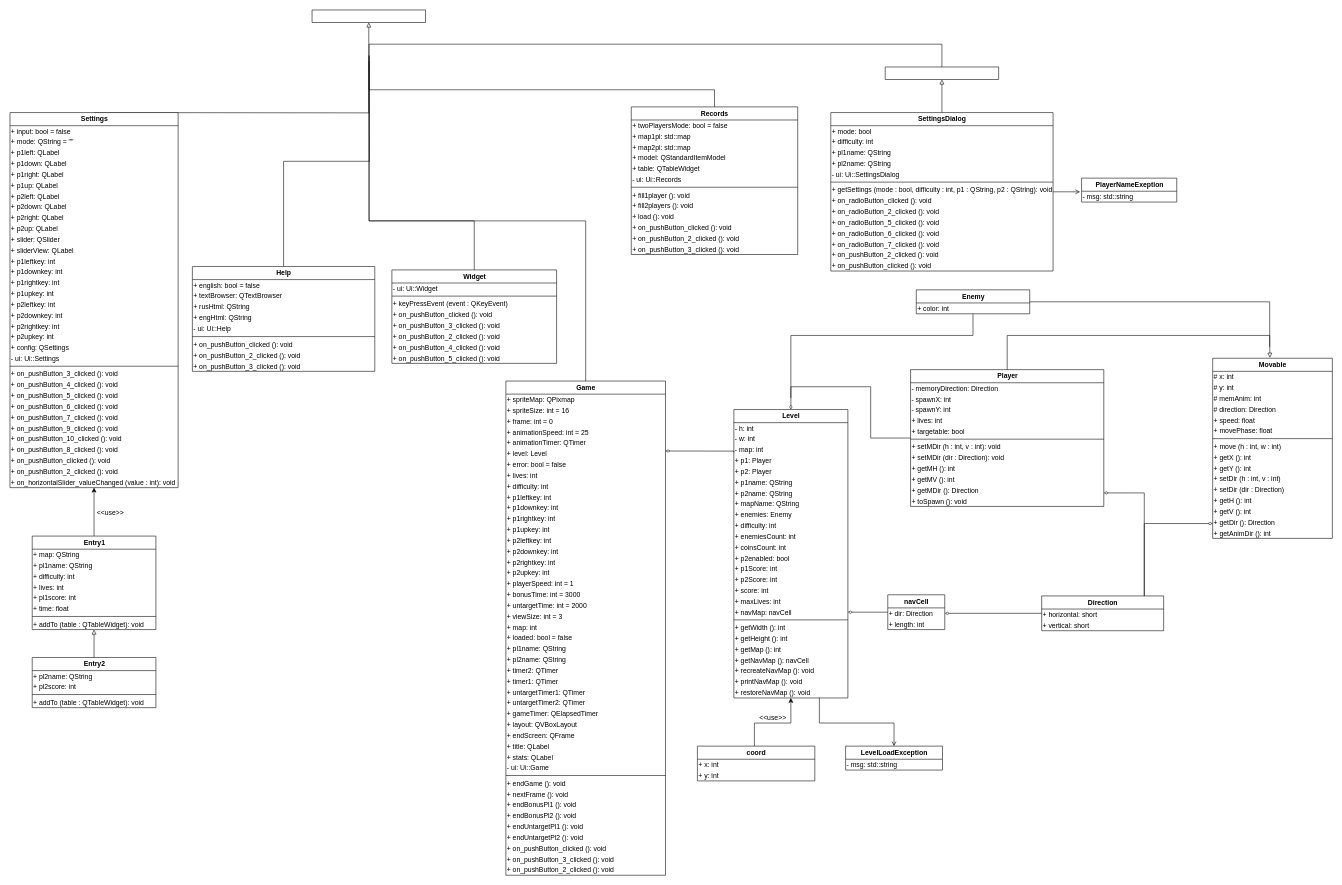
This 1342x885 diagram has some shape labels left out. The shapes that lost their labels are listed below. From the top down, each one's centre as x and y in pixels, then its label:
At pixel 369 16: "QWidget".
At pixel 942 73: "QDialog".
